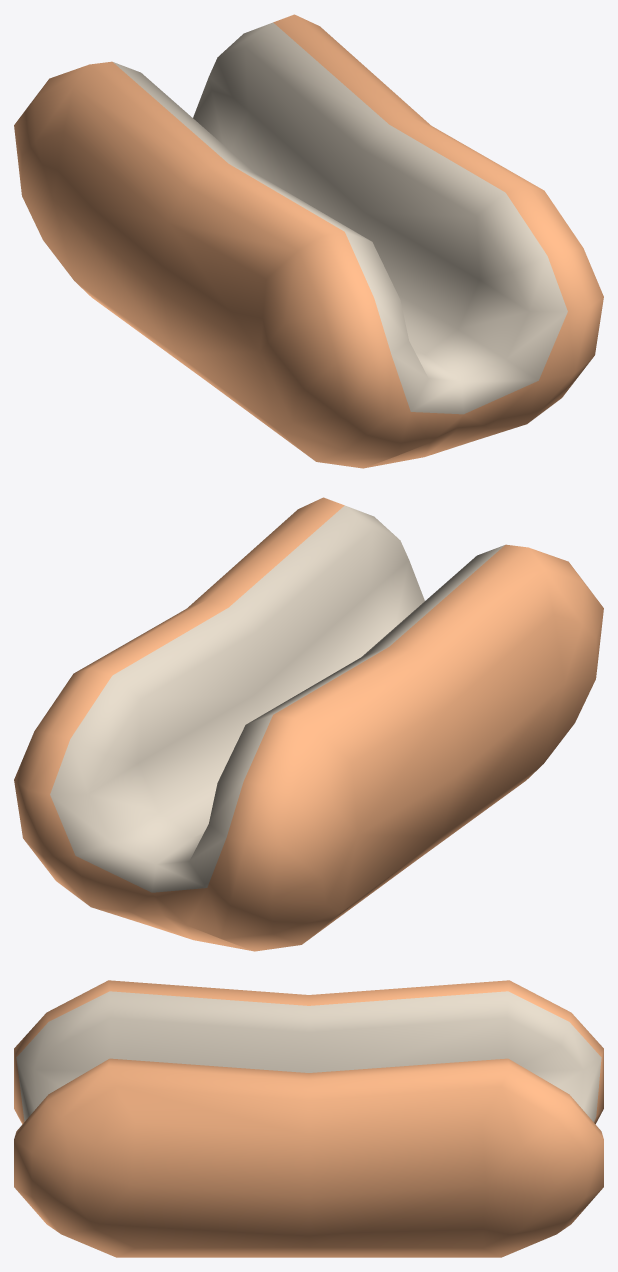
Rendered from HotdogBun_geo.fbx.
3 renders of one model, top to bottom at view 1: azimuth 30°, elevation 25°; view 2: azimuth 150°, elevation 25°; view 3: azimuth 270°, elevation 25°, orthographic. The views are drawn at different scales.
Parts seen in each view (by area): view 1: HotdogBun_geo; view 2: HotdogBun_geo; view 3: HotdogBun_geo.
Boxes of the visible parts, x1,y1,x2,y2 form: HotdogBun_geo: (14, 14, 603, 468); HotdogBun_geo: (14, 497, 603, 951); HotdogBun_geo: (14, 980, 603, 1257).
Bounding box in the file's own units: 0.3823 × 0.7482 × 0.2967.
